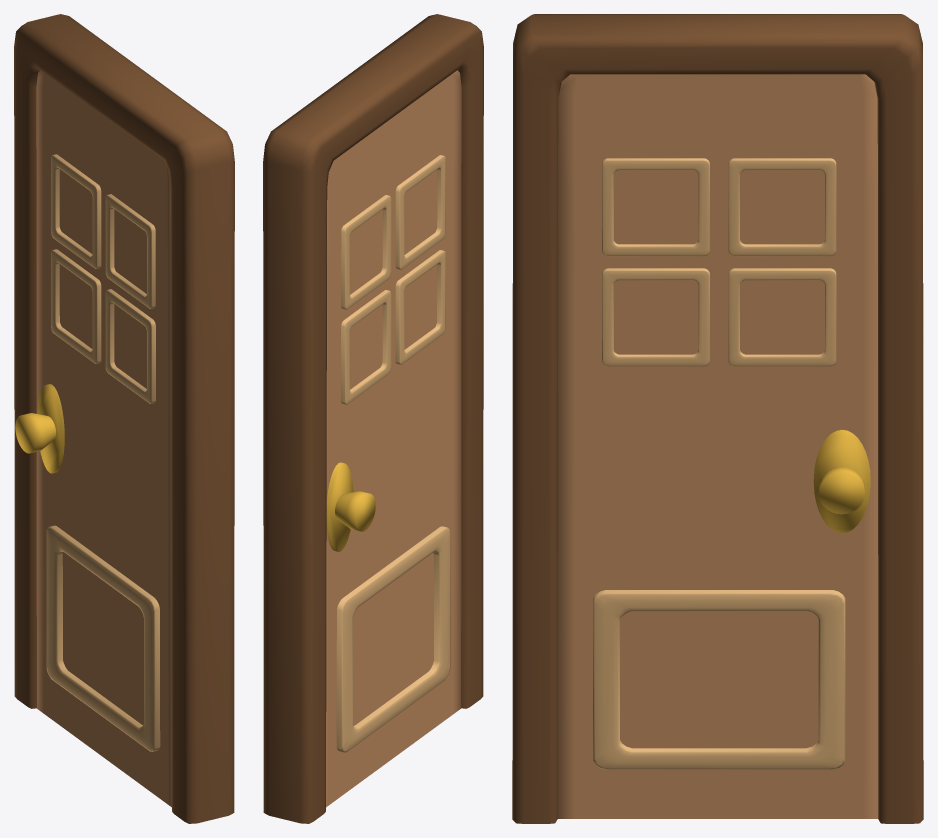
File: 3DModel_Door.glb
The picture shows the model from 3 angles, left to right: view 1: azimuth 30°, elevation 25°; view 2: azimuth 150°, elevation 25°; view 3: azimuth 270°, elevation 25°; orthographic projection. The views are drawn at different scales.
Parts seen in each view (by area): view 1: Door.002; view 2: Door.002; view 3: Door.002.
Part boxes in pixels (box(x1,y1,x2,y2)): Door.002: box(14, 14, 234, 823); Door.002: box(263, 14, 483, 823); Door.002: box(512, 14, 923, 823).
Bounding box in the file's own units: 0.2629 × 2 × 0.9462.
